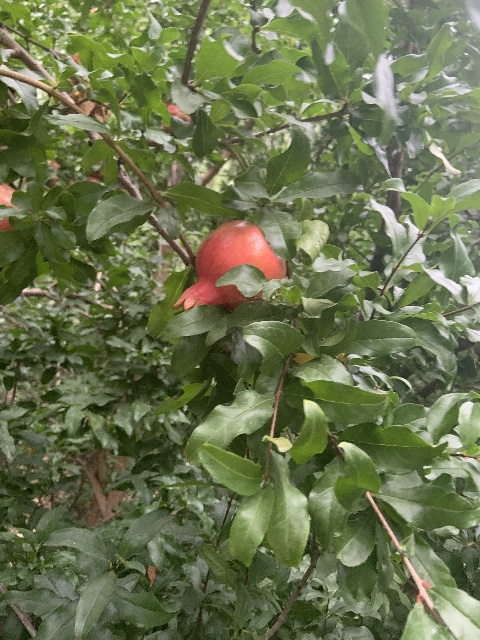ripe: (172, 220, 286, 310)
